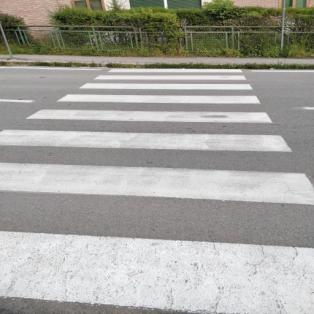Paso de Cebra: (23, 92, 281, 129), (90, 67, 251, 83)
